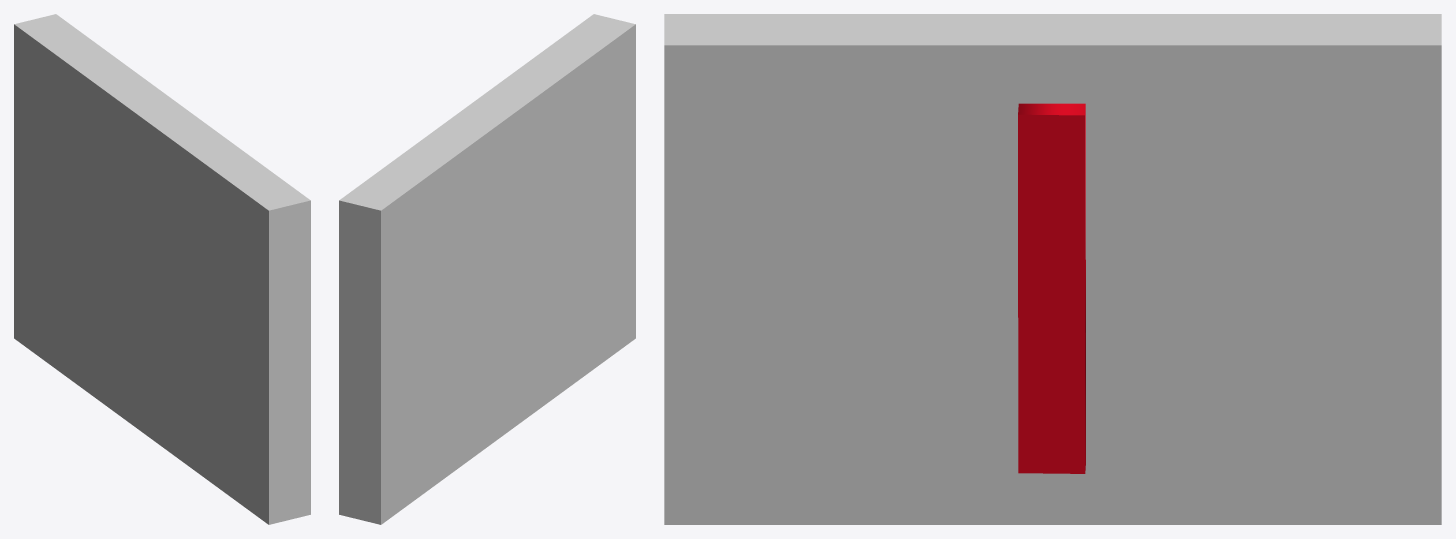
The model's file is row 1.fbx.
3 renders of one model, left to right at view 1: azimuth 30°, elevation 25°; view 2: azimuth 150°, elevation 25°; view 3: azimuth 270°, elevation 25°, orthographic. The views are drawn at different scales.
Parts seen in each view (by area): view 1: Cube; view 2: Cube; view 3: Cube, Text.
Part boxes in pixels (bbox=[...]): Cube: bbox=[14, 14, 310, 524]; Cube: bbox=[339, 14, 635, 524]; Cube: bbox=[664, 14, 1441, 524]; Text: bbox=[1018, 103, 1085, 473].
Bounding box in the file's own units: 40.66 × 212 × 312.
